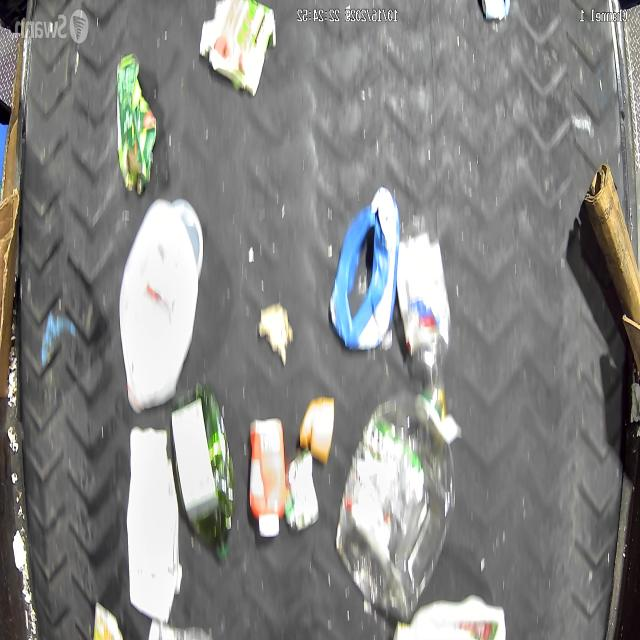milk_jug: (120, 198, 204, 413)
non_white_jug: (336, 383, 454, 622)
plastic_bottle: (173, 384, 233, 560), (396, 212, 451, 382)
